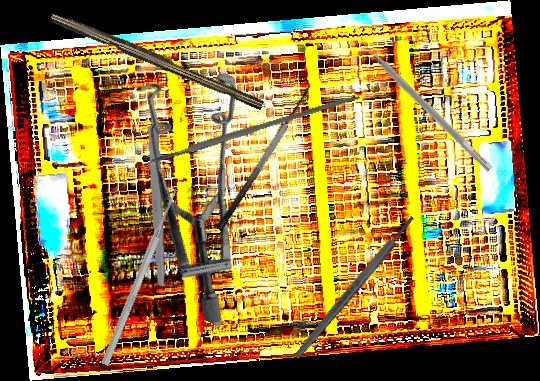Pusher: (99, 187, 182, 367)
Scalpel Handle: (48, 8, 267, 111), (291, 213, 418, 361), (149, 92, 361, 165), (145, 91, 168, 287)
Spatula Surgical: (353, 31, 499, 173), (203, 75, 320, 233)
Speculum: (57, 40, 326, 329)
